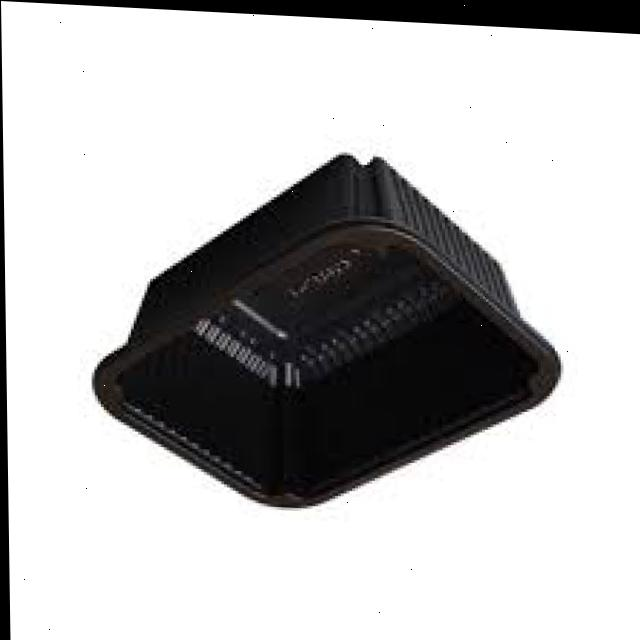disposable: (78, 129, 561, 535)
